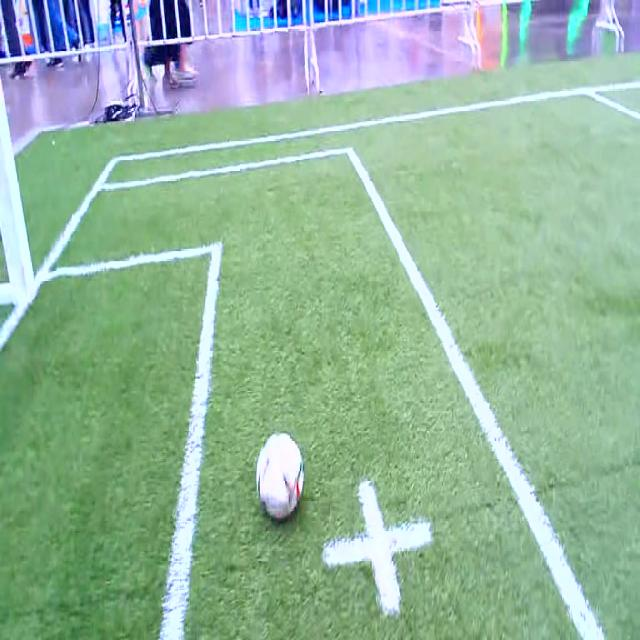ball: (255, 434, 304, 518)
